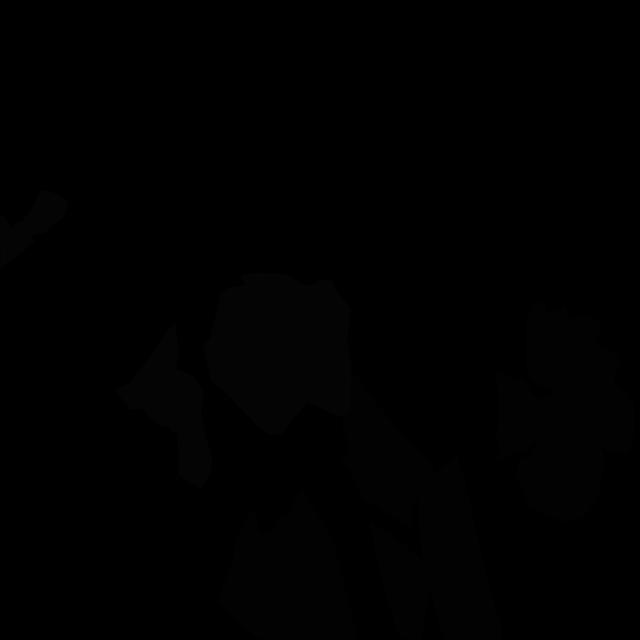cardboard: (493, 301, 636, 522), (216, 488, 358, 639), (418, 456, 502, 640), (341, 375, 433, 529), (369, 521, 430, 640)
soft_plastic: (204, 272, 352, 435), (116, 321, 212, 489), (0, 190, 68, 269)
